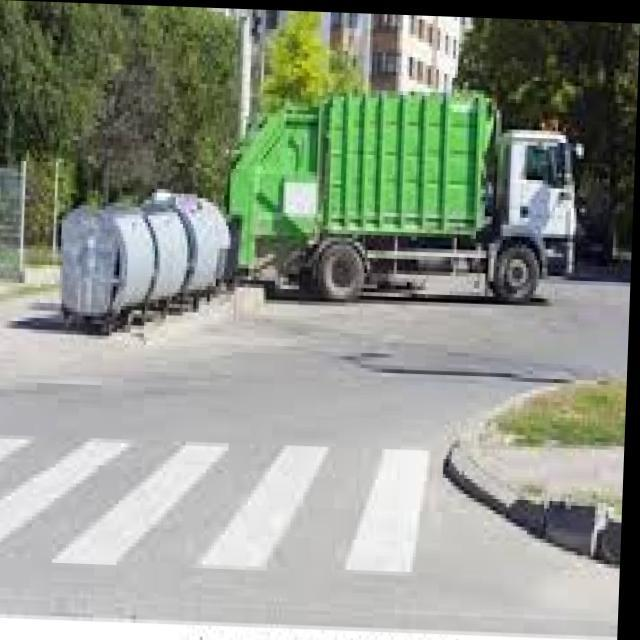covered: (220, 76, 587, 306)
